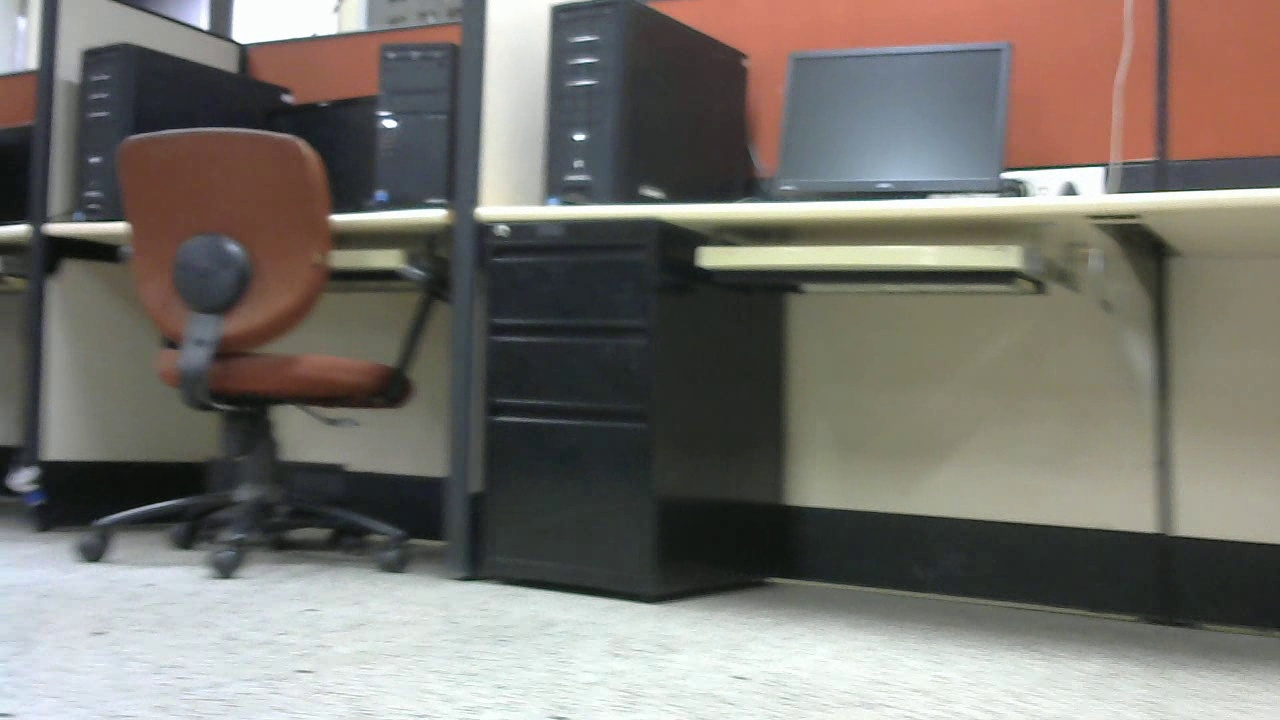chair: (73, 125, 443, 584)
